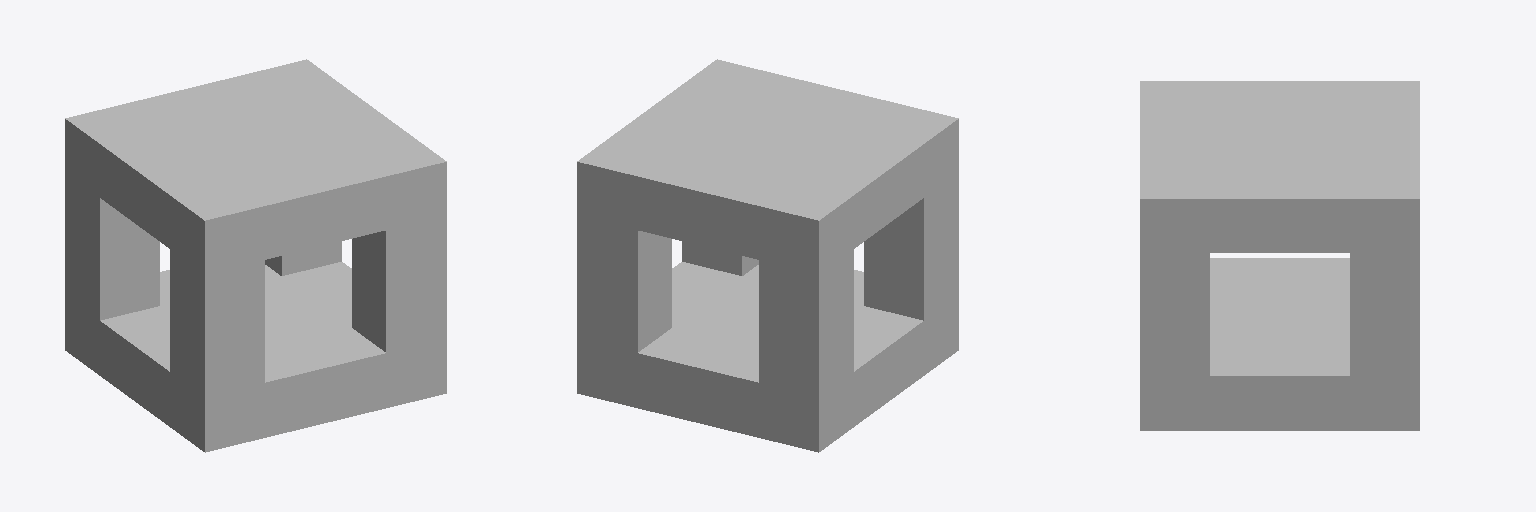
Rendered from ground1.obj.
The picture shows the model from 3 angles: view 1: azimuth 30°, elevation 25°; view 2: azimuth 150°, elevation 25°; view 3: azimuth 270°, elevation 25°; orthographic projection.
Parts seen in each view (by area): view 1: Cube_Cube.001; view 2: Cube_Cube.001; view 3: Cube_Cube.001.
Boxes of the visible parts, x1,y1,x2,y2 form: Cube_Cube.001: [65, 59, 446, 452]; Cube_Cube.001: [577, 59, 958, 452]; Cube_Cube.001: [1140, 81, 1419, 430].
Size of the model in its own units: 4.89 by 4.48 by 4.89.